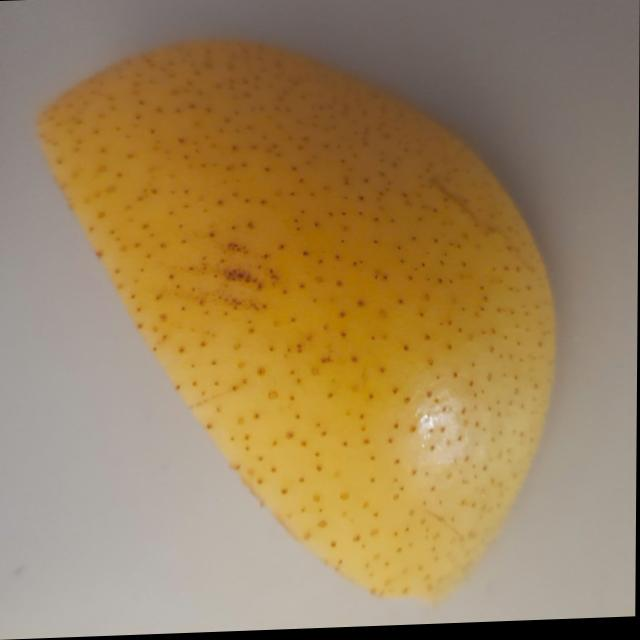Le: (28, 20, 565, 622)
